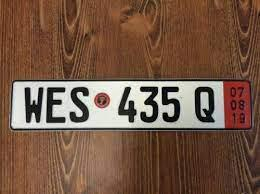3: (138, 84, 160, 124)
4: (116, 84, 138, 125)
5: (160, 84, 183, 124)
E: (46, 84, 67, 125)
Q: (191, 83, 218, 124)
S: (68, 85, 91, 124)
W: (22, 86, 44, 124)
